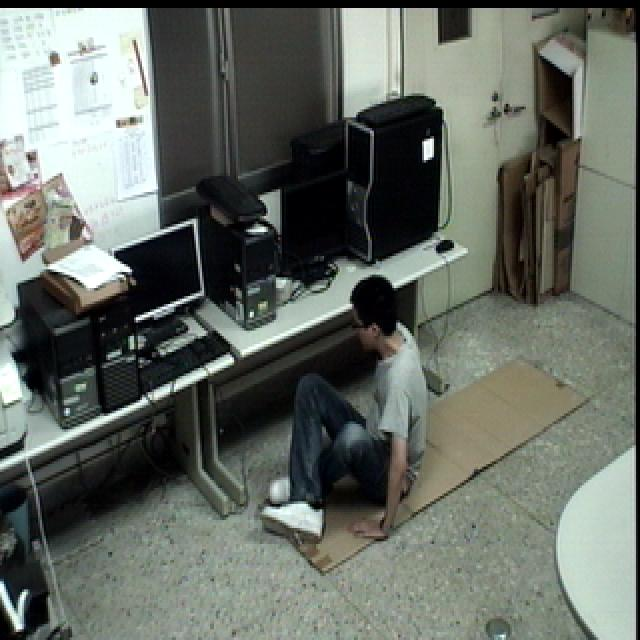sit: (258, 269, 436, 551)
